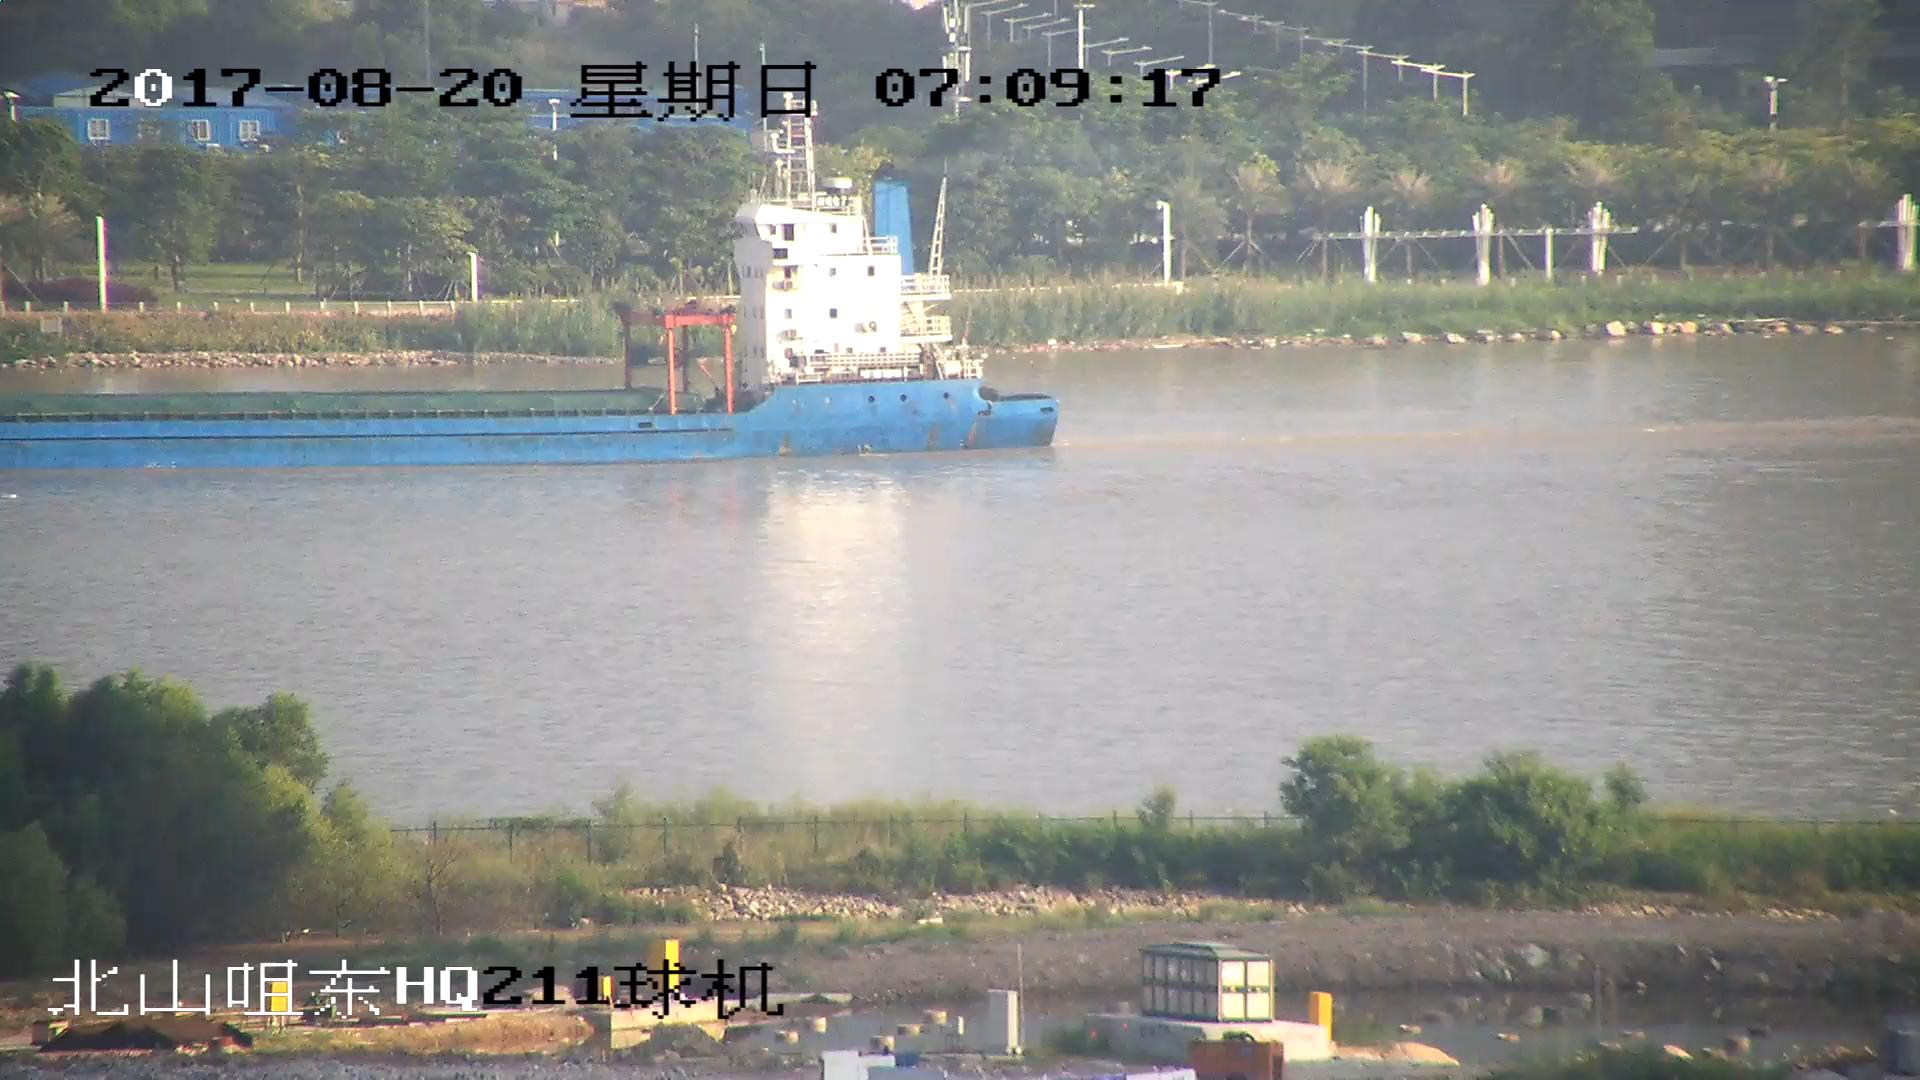general cargo ship: (1, 140, 1067, 460)
